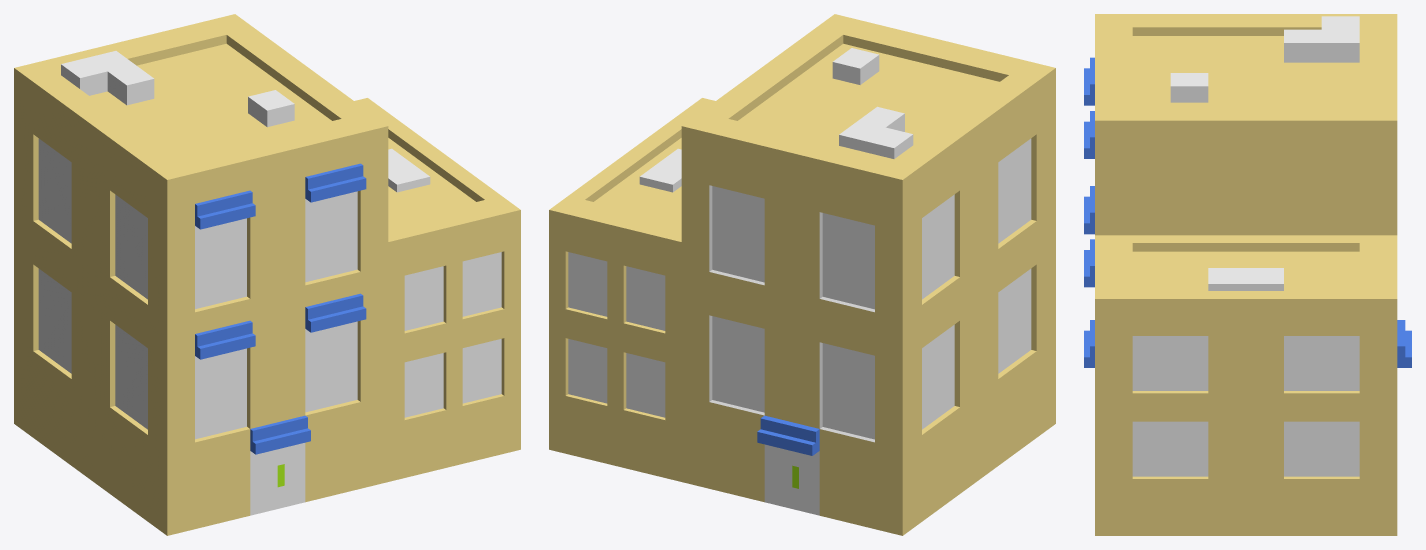
Rendered from LShapedTowerMesh.fbx.
3 renders of one model, left to right at view 1: azimuth 30°, elevation 25°; view 2: azimuth 150°, elevation 25°; view 3: azimuth 270°, elevation 25°, orthographic.
Visible parts, largest first — view 1: tallerBuilding_LOD0, shorterBuilding_LOD0; view 2: tallerBuilding_LOD0, shorterBuilding_LOD0; view 3: shorterBuilding_LOD0, tallerBuilding_LOD0.
Part boxes in pixels (x1,y1,x2,y2): tallerBuilding_LOD0: (14,14,388,535); shorterBuilding_LOD0: (354,98,520,481); tallerBuilding_LOD0: (681,14,1055,535); shorterBuilding_LOD0: (549,98,715,481); shorterBuilding_LOD0: (1095,235,1397,535); tallerBuilding_LOD0: (1084,14,1411,367).
Size of what is drawn, in the model's own units: 1599 by 1586 by 1301.
